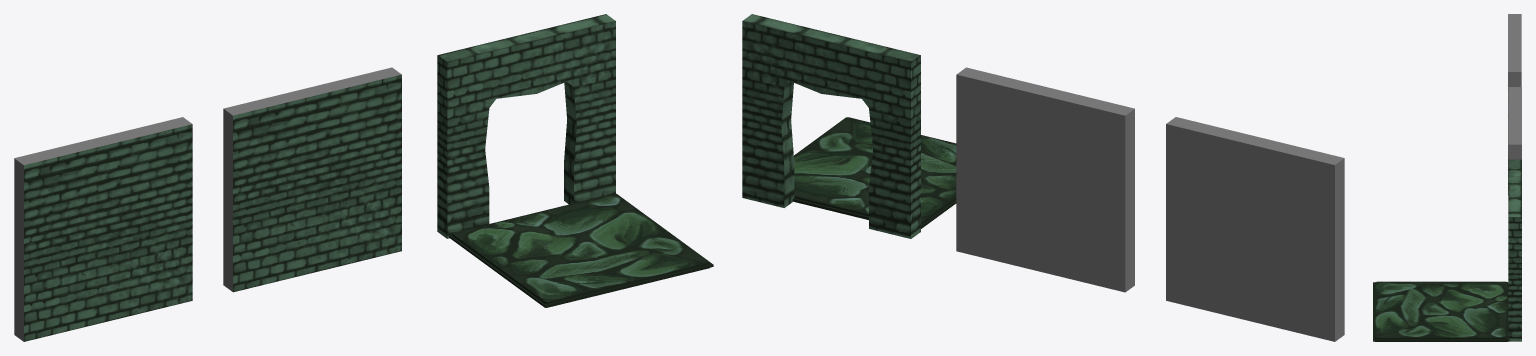
Rendered from wall entrance.fbx.
The picture shows the model from 3 angles, left to right: view 1: azimuth 30°, elevation 25°; view 2: azimuth 150°, elevation 25°; view 3: azimuth 270°, elevation 25°; orthographic projection. The views are drawn at different scales.
Visible parts, largest first — view 1: Cube.001, Cube, Cube.002, Cube.004; view 2: Cube.001, Cube, Cube.002, Cube.004; view 3: Cube.004, Cube.002, Cube, Cube.001.
Part boxes in pixels (x1=…): Cube.001: x1=223, y1=67, x2=401, y2=292; Cube: x1=14, y1=117, x2=192, y2=341; Cube.002: x1=437, y1=14, x2=615, y2=238; Cube.004: x1=449, y1=193, x2=713, y2=307; Cube.001: x1=956, y1=67, x2=1134, y2=292; Cube: x1=1166, y1=117, x2=1344, y2=341; Cube.002: x1=742, y1=14, x2=920, y2=238; Cube.004: x1=792, y1=117, x2=956, y2=228; Cube.004: x1=1373, y1=281, x2=1509, y2=341; Cube.002: x1=1508, y1=159, x2=1521, y2=341; Cube: x1=1508, y1=14, x2=1521, y2=195; Cube.001: x1=1508, y1=87, x2=1521, y2=159.
Size of the model in its own units: 704 by 202 by 217.
